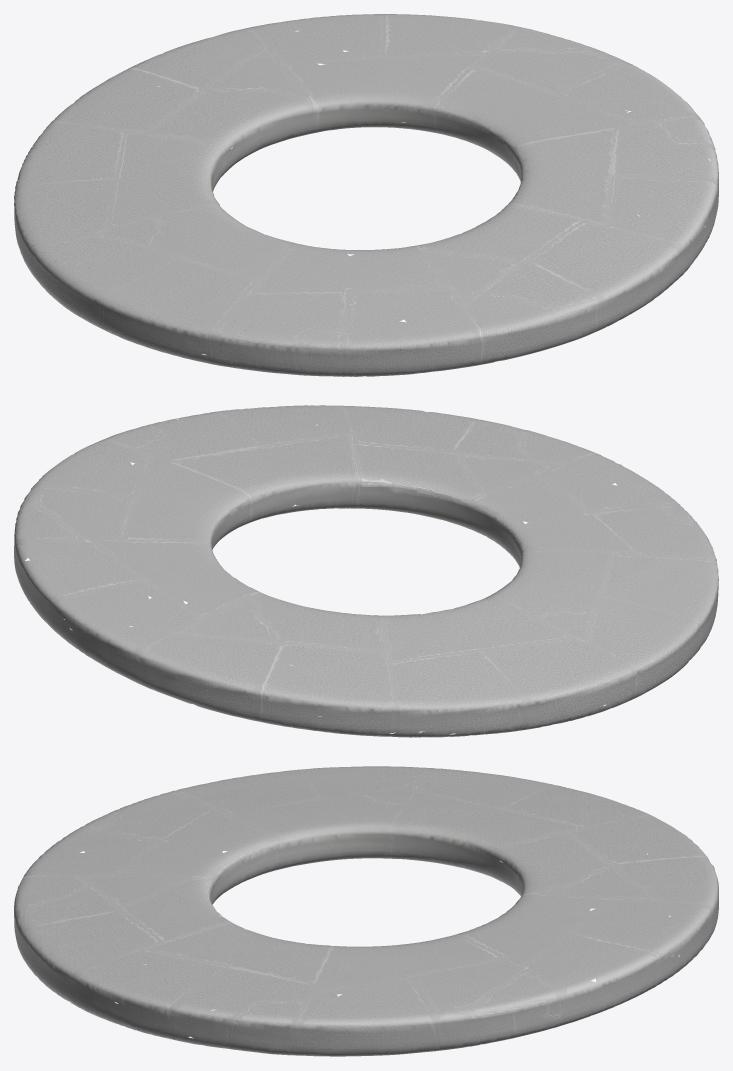
The model's file is flat_washer.glb.
3 views of the same model, one above another, from view 1: azimuth 30°, elevation 25°; view 2: azimuth 150°, elevation 25°; view 3: azimuth 270°, elevation 25° (orthographic).
Parts seen in each view (by area): view 1: tripo_node_72de8c7b-df63-44fe-89f0-17ad77cf3972; view 2: tripo_node_72de8c7b-df63-44fe-89f0-17ad77cf3972; view 3: tripo_node_72de8c7b-df63-44fe-89f0-17ad77cf3972.
Boxes of the visible parts, x1=… form: tripo_node_72de8c7b-df63-44fe-89f0-17ad77cf3972: x1=14, y1=14, x2=718, y2=376; tripo_node_72de8c7b-df63-44fe-89f0-17ad77cf3972: x1=14, y1=405, x2=718, y2=737; tripo_node_72de8c7b-df63-44fe-89f0-17ad77cf3972: x1=14, y1=766, x2=718, y2=1056.
Bounding box in the file's own units: 0.9988 × 0.1226 × 0.9994.
1 material, 1 textured.
